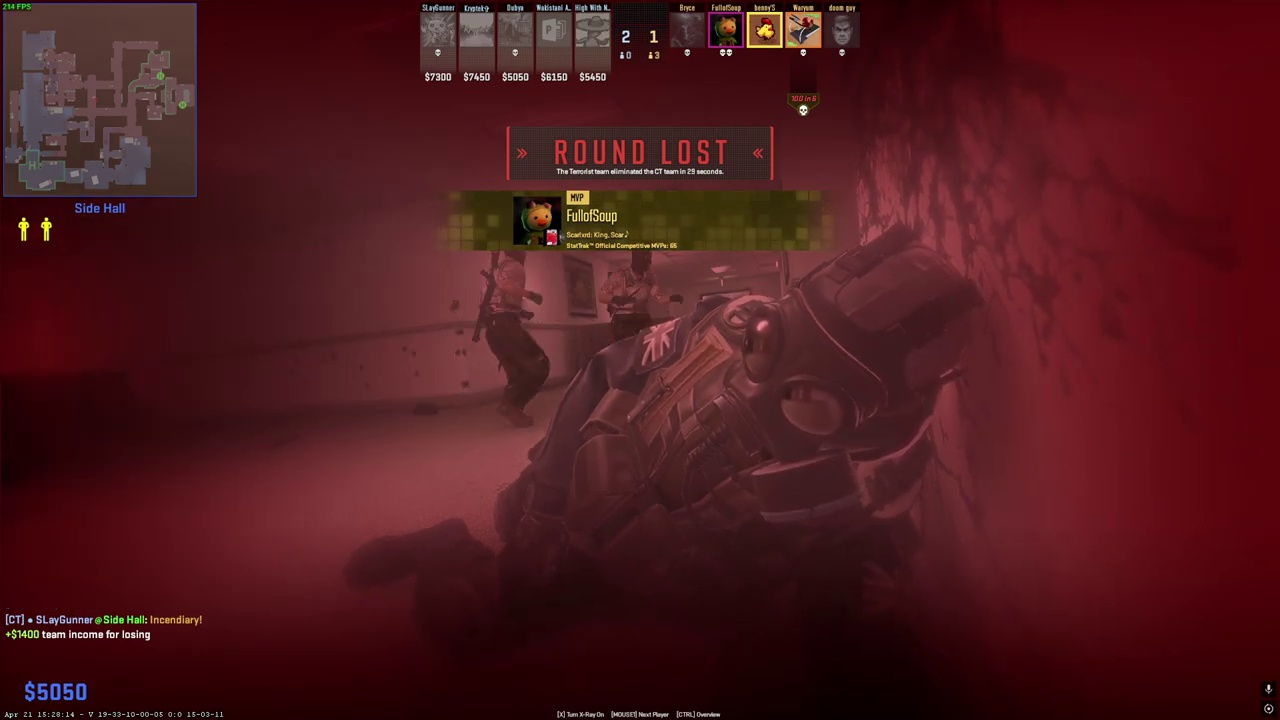Terrorist: (479, 251, 548, 424), (602, 249, 661, 335)
